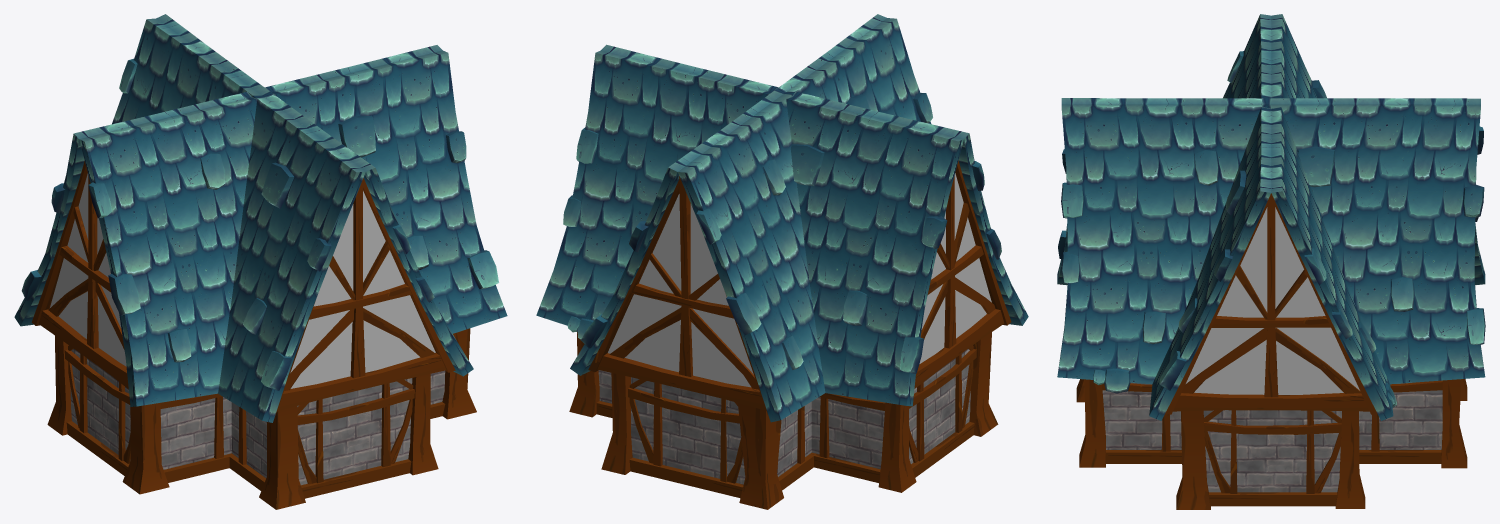
The model's file is SM_BLD_body_v07_01.fbx.
3 views of the same model, side by side, from view 1: azimuth 30°, elevation 25°; view 2: azimuth 150°, elevation 25°; view 3: azimuth 270°, elevation 25° (orthographic).
Parts seen in each view (by area): view 1: SM_BLD_body_v07_01; view 2: SM_BLD_body_v07_01; view 3: SM_BLD_body_v07_01.
Boxes of the visible parts, box(x1,y1,x2,y2) form: SM_BLD_body_v07_01: box(14, 14, 507, 509); SM_BLD_body_v07_01: box(536, 14, 1028, 509); SM_BLD_body_v07_01: box(1057, 14, 1485, 509).
Bounding box in the file's own units: 1288 × 1078 × 1288.
